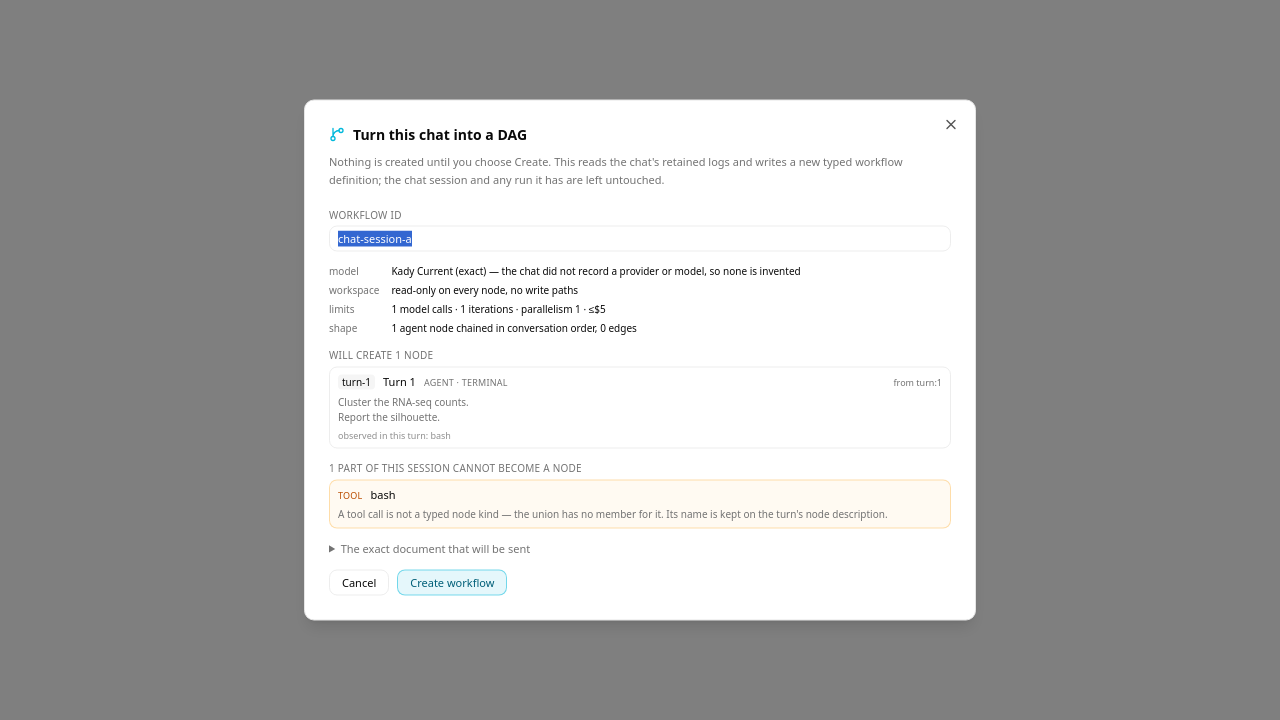
Test: promote-to-DAG dialog › renders the validator's own issue list verbatim when the route refuses
Click the button "Create workflow" at (452, 582), box left=397, top=569, right=507, bottom=596
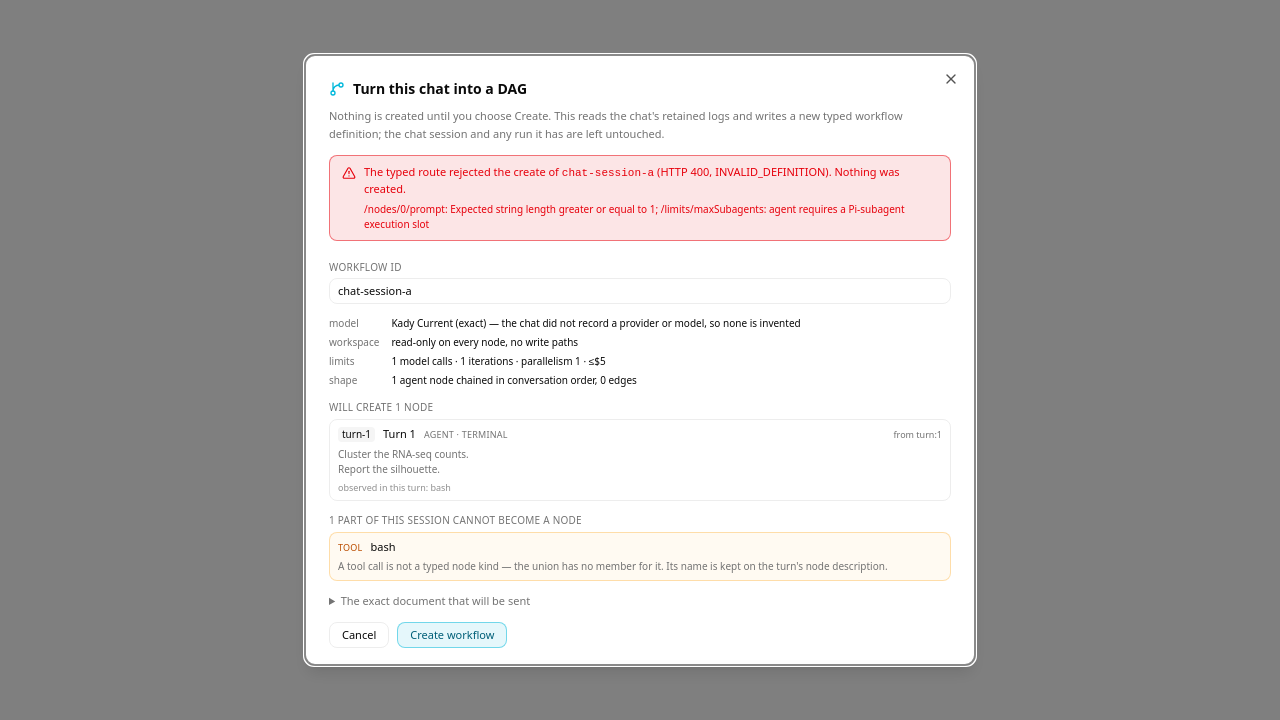
Expected: the message shows "The typed route rejected the create of", left=364, top=164, right=559, bottom=179
Expected: the message shows "chat-session-a", left=562, top=167, right=654, bottom=179
Expected: the message shows "HTTP 400", left=660, top=164, right=825, bottom=179
